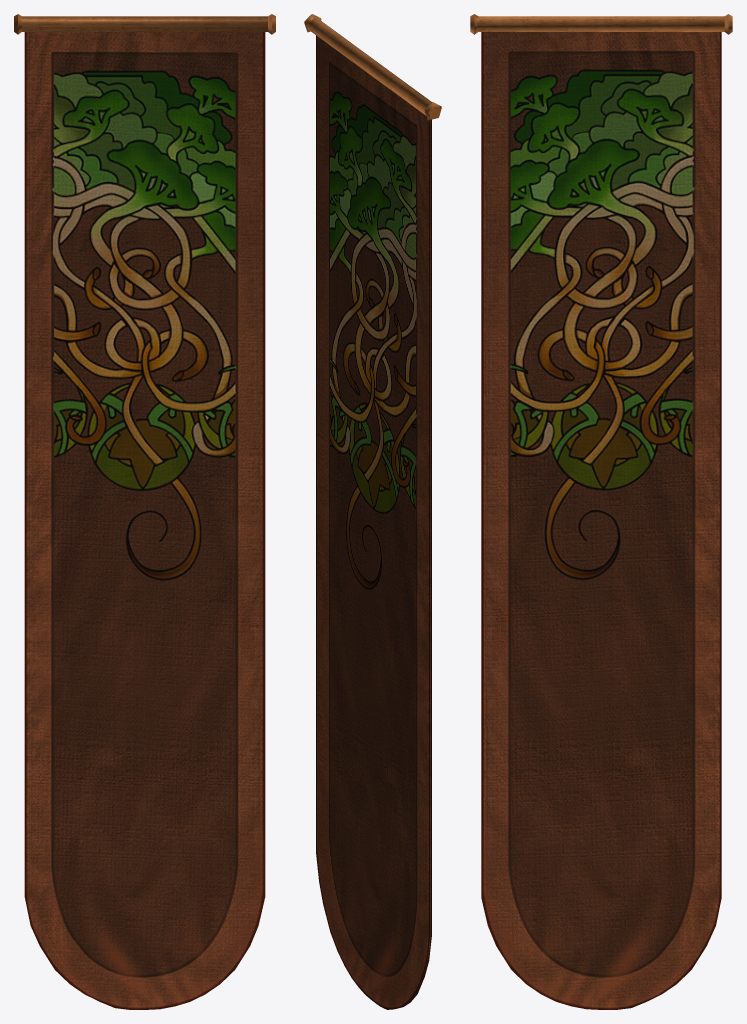
The model's file is M_Home_Garden_Banner_01.fbx.
3 views of the same model, side by side, from view 1: azimuth 90°, elevation 25°; view 2: azimuth 210°, elevation 25°; view 3: azimuth 270°, elevation 25° (orthographic). The views are drawn at different scales.
Visible parts, largest first — view 1: M_Home_Garden_Banner_01; view 2: M_Home_Garden_Banner_01; view 3: M_Home_Garden_Banner_01.
Part boxes in pixels (x1,y1,x2,y2): M_Home_Garden_Banner_01: (14, 14, 275, 1009); M_Home_Garden_Banner_01: (304, 14, 441, 1009); M_Home_Garden_Banner_01: (470, 14, 732, 1009).
Size of the model in its own units: 16.05 by 838 by 200.
